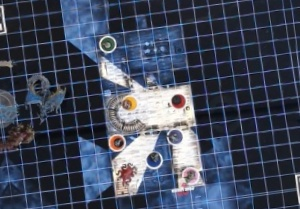blue: (144, 148, 165, 170)
green: (97, 33, 118, 56)
orange: (106, 131, 128, 153)
pink: (179, 163, 203, 185)
red: (168, 91, 190, 113)
violet: (164, 124, 185, 148)
yellow: (117, 92, 140, 113)
